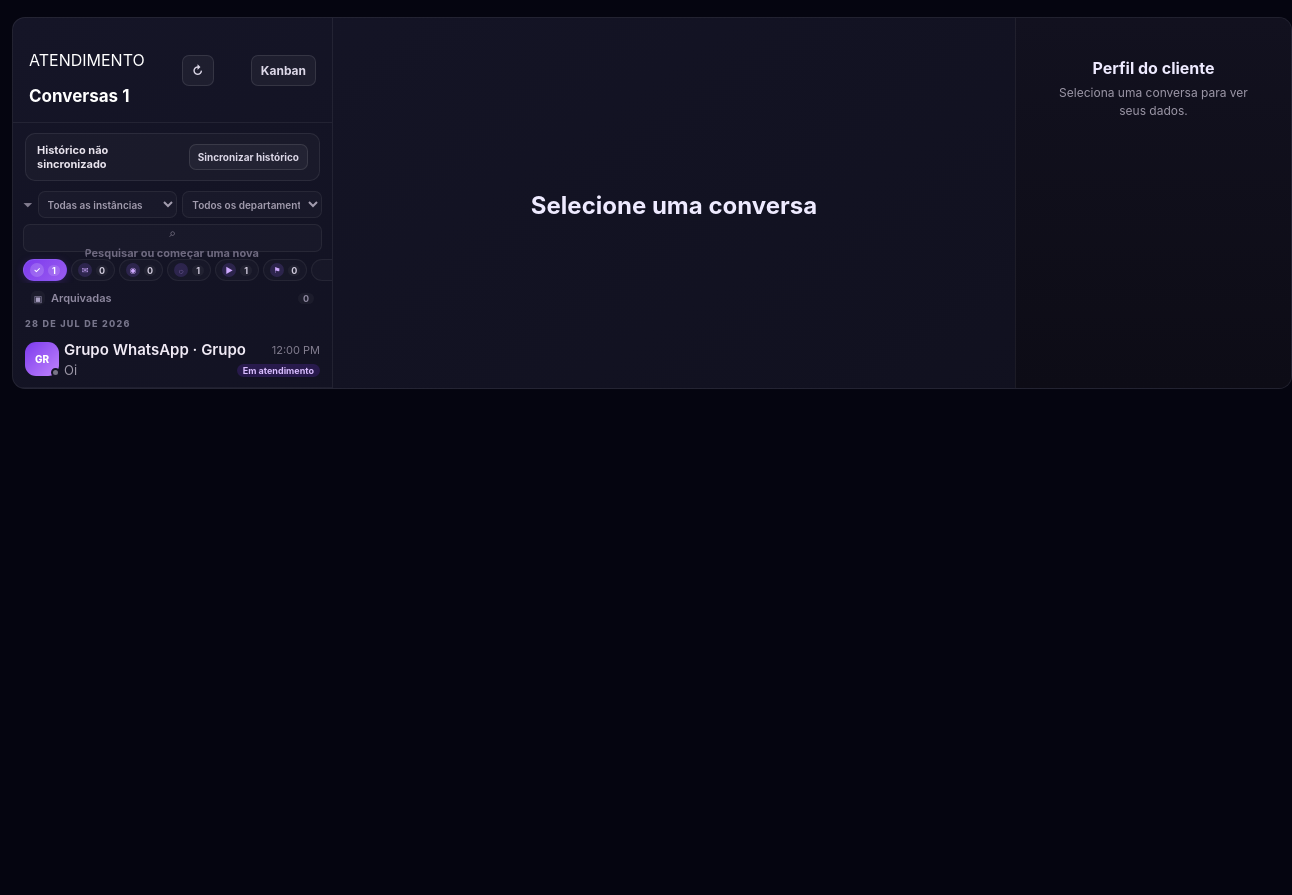
Inbox group mentions › typing @ in a group opens the participant list with names, numbers and the admin badge
The image size is (1292, 895).
Click the button with class "conversation-item" at (172, 360), box [13,331,332,388]
(page scrolled)
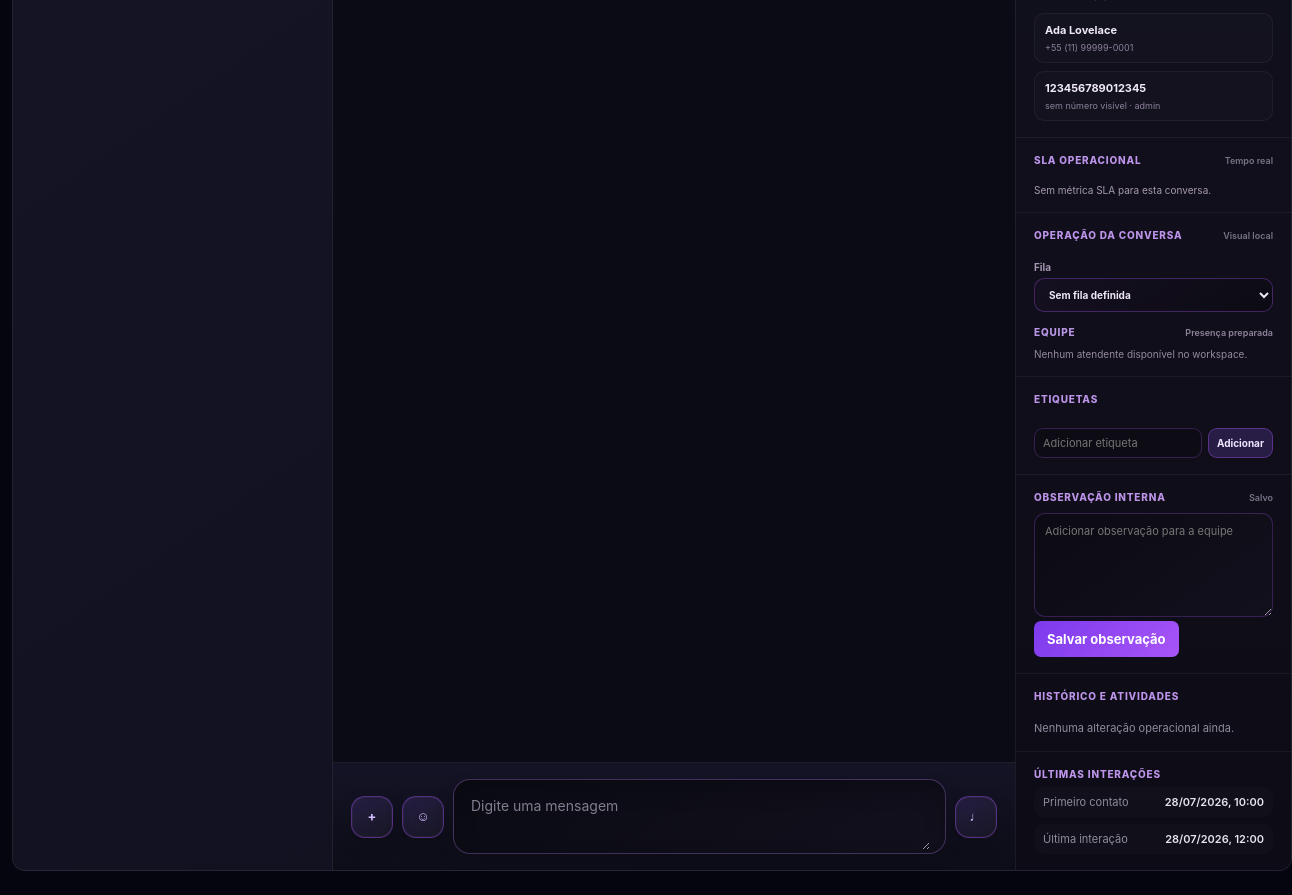
Type "@" into the text box labelled "mensagem" at (700, 817), box [471,783,930,850]
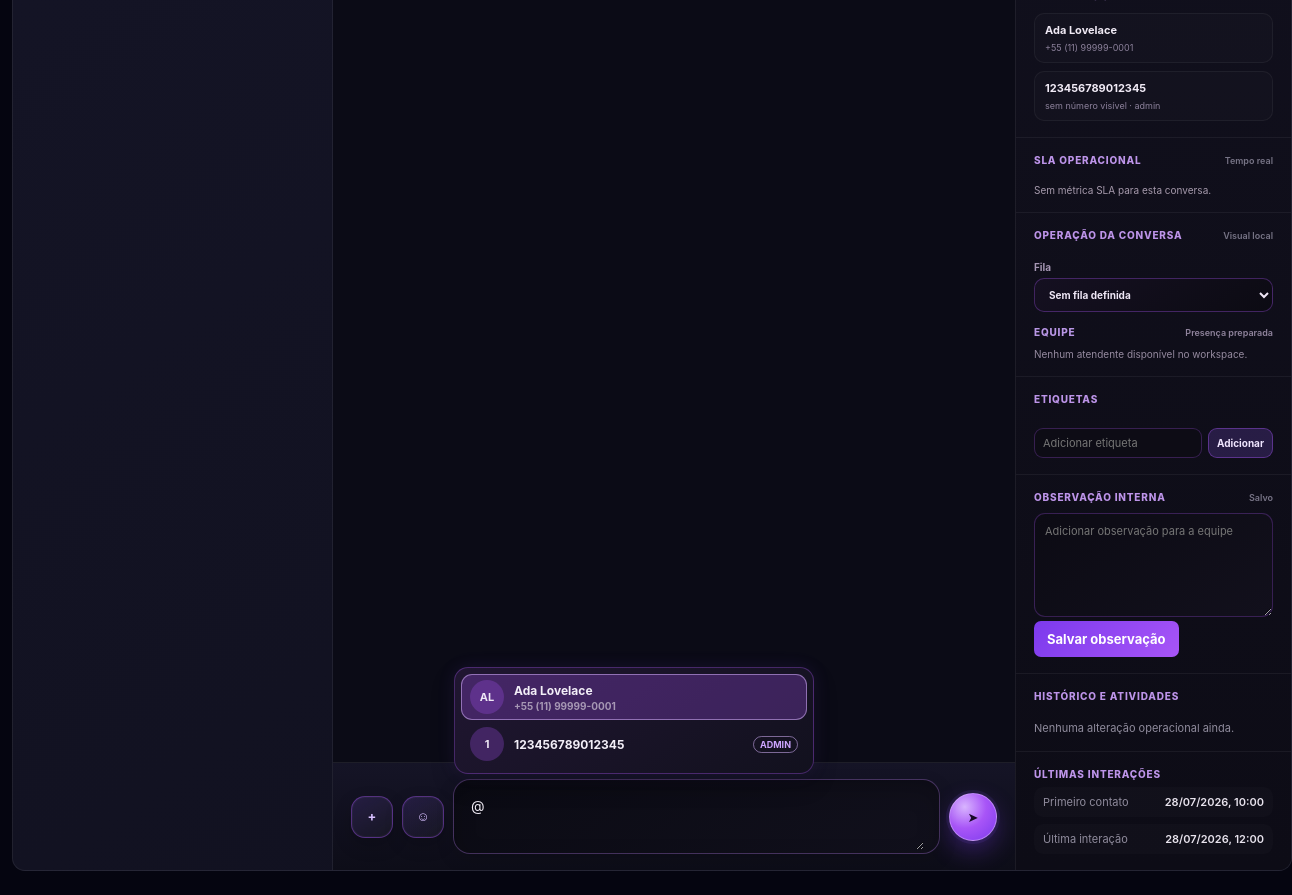
Check: the list with class "composer-mention" is shown, box [454,667,814,774]
Check: the option "AL Ada Lovelace +55 (11) 99999-0001" is shown, box [461,674,807,720]
Check: the option "1 123456789012345 admin" is shown, box [461,721,807,767]
